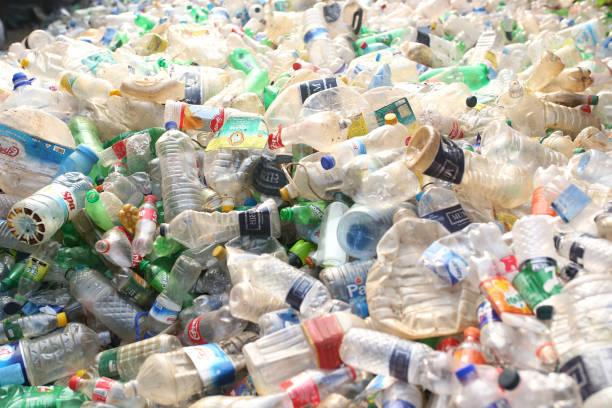Plastic: (341, 326, 486, 397), (151, 120, 213, 247), (267, 124, 380, 176), (151, 208, 286, 247)
